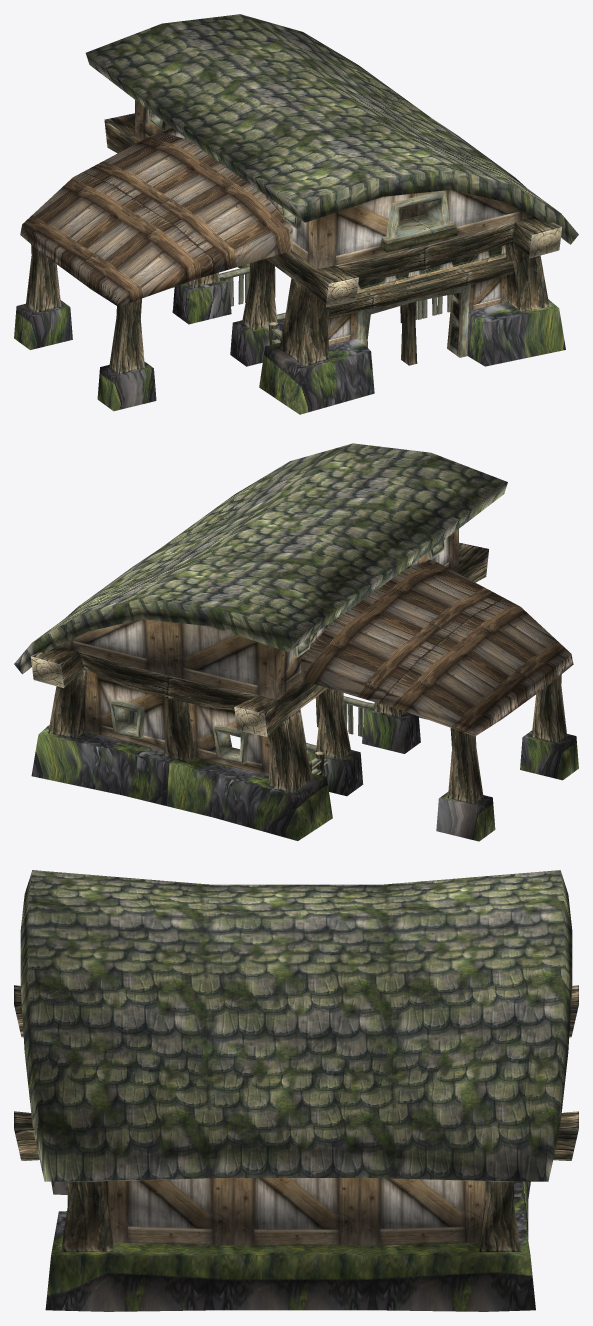
The model's file is duskwood_stable.obj.
The picture shows the model from 3 angles, top to bottom: view 1: azimuth 30°, elevation 25°; view 2: azimuth 150°, elevation 25°; view 3: azimuth 270°, elevation 25°; orthographic projection. The views are drawn at different scales.
Parts seen in each view (by area): view 1: stable01; view 2: stable01; view 3: stable01.
Boxes of the visible parts, bbox=[...] form: stable01: bbox=[14, 14, 578, 414]; stable01: bbox=[14, 443, 578, 841]; stable01: bbox=[14, 870, 578, 1311].
Bounding box in the file's own units: 23.63 × 11.96 × 21.71.
